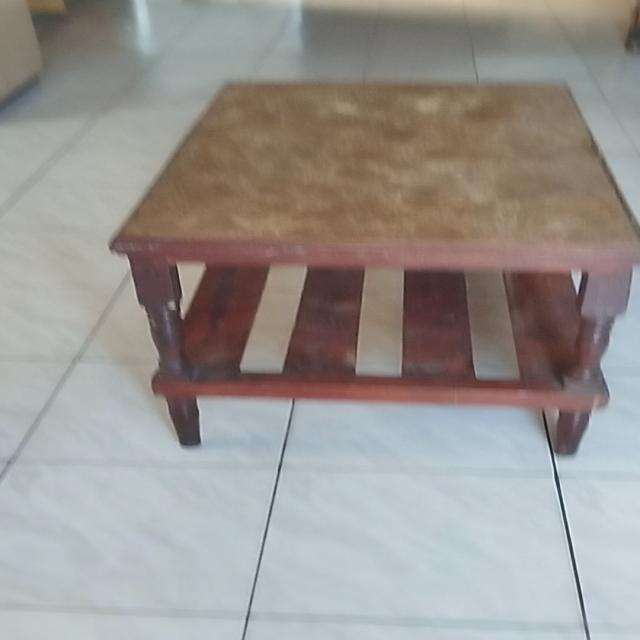table: (107, 76, 640, 463)
